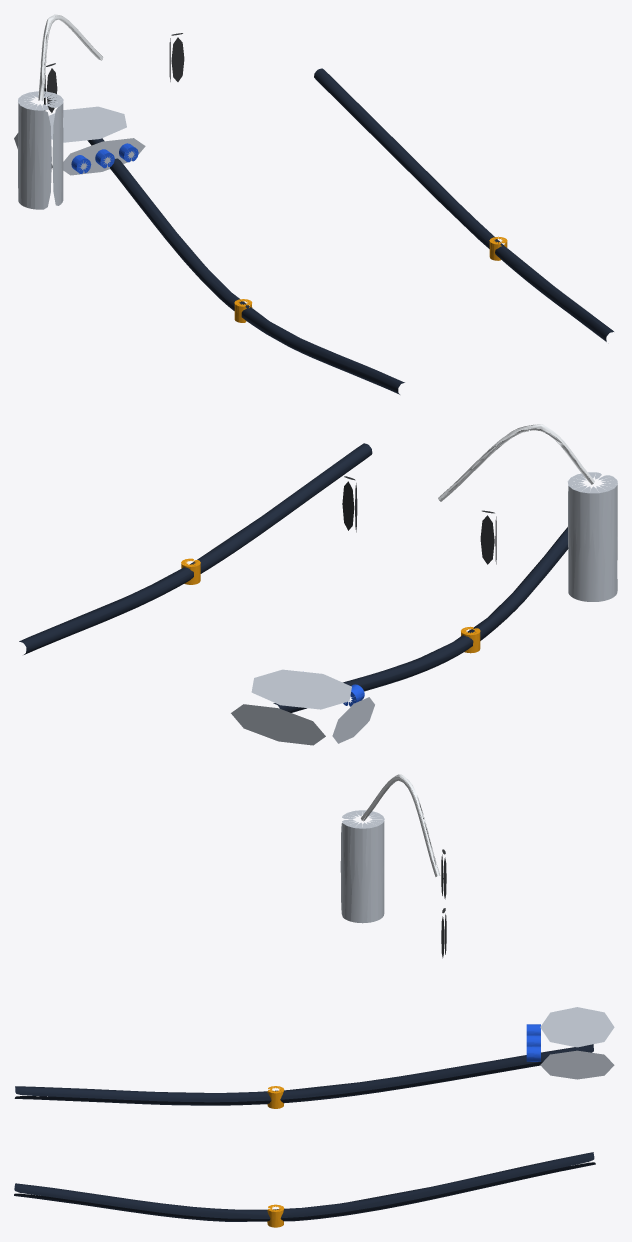
The model's file is cockpit_electronics.glb.
3 views of the same model, one above another, from view 1: azimuth 30°, elevation 25°; view 2: azimuth 150°, elevation 25°; view 3: azimuth 270°, elevation 25° (orthographic). The views are drawn at different scales.
Parts seen in each view (by area): view 1: Cockpit_Motorsport_Electronics_Assembly, Motorsport_ECU_PDU_Unit; view 2: Cockpit_Motorsport_Electronics_Assembly, Motorsport_ECU_PDU_Unit; view 3: Cockpit_Motorsport_Electronics_Assembly, Motorsport_ECU_PDU_Unit.
Part boxes in pixels (<box>): Cockpit_Motorsport_Electronics_Assembly: <box>18,14,613,394</box>; Motorsport_ECU_PDU_Unit: <box>14,106,145,175</box>; Cockpit_Motorsport_Electronics_Assembly: <box>19,424,617,712</box>; Motorsport_ECU_PDU_Unit: <box>231,669,374,745</box>; Cockpit_Motorsport_Electronics_Assembly: <box>14,774,595,1227</box>; Motorsport_ECU_PDU_Unit: <box>526,1007,614,1079</box>.
Size of the model in its own units: 0.835 by 0.5153 by 1.04.
